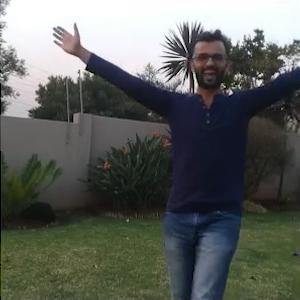takeoff: (56, 28, 299, 299)
